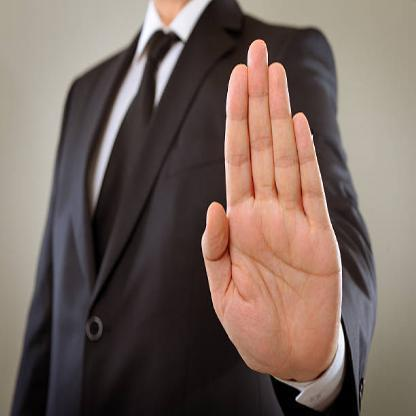stop: (199, 38, 343, 382)
